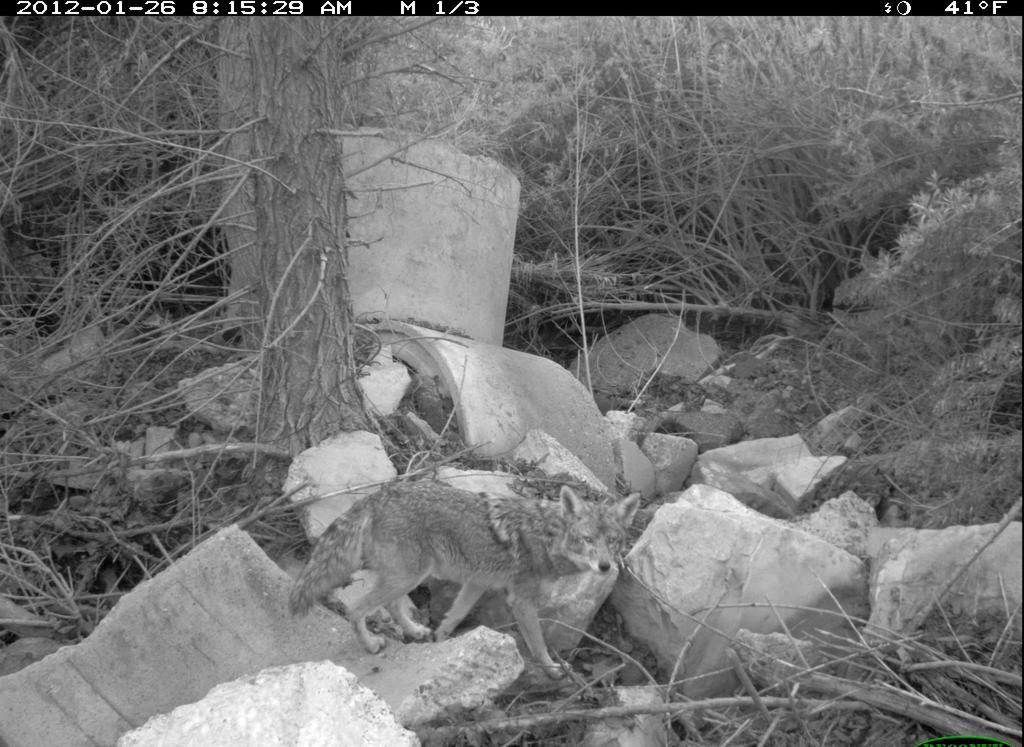coyote: (264, 445, 647, 679)
